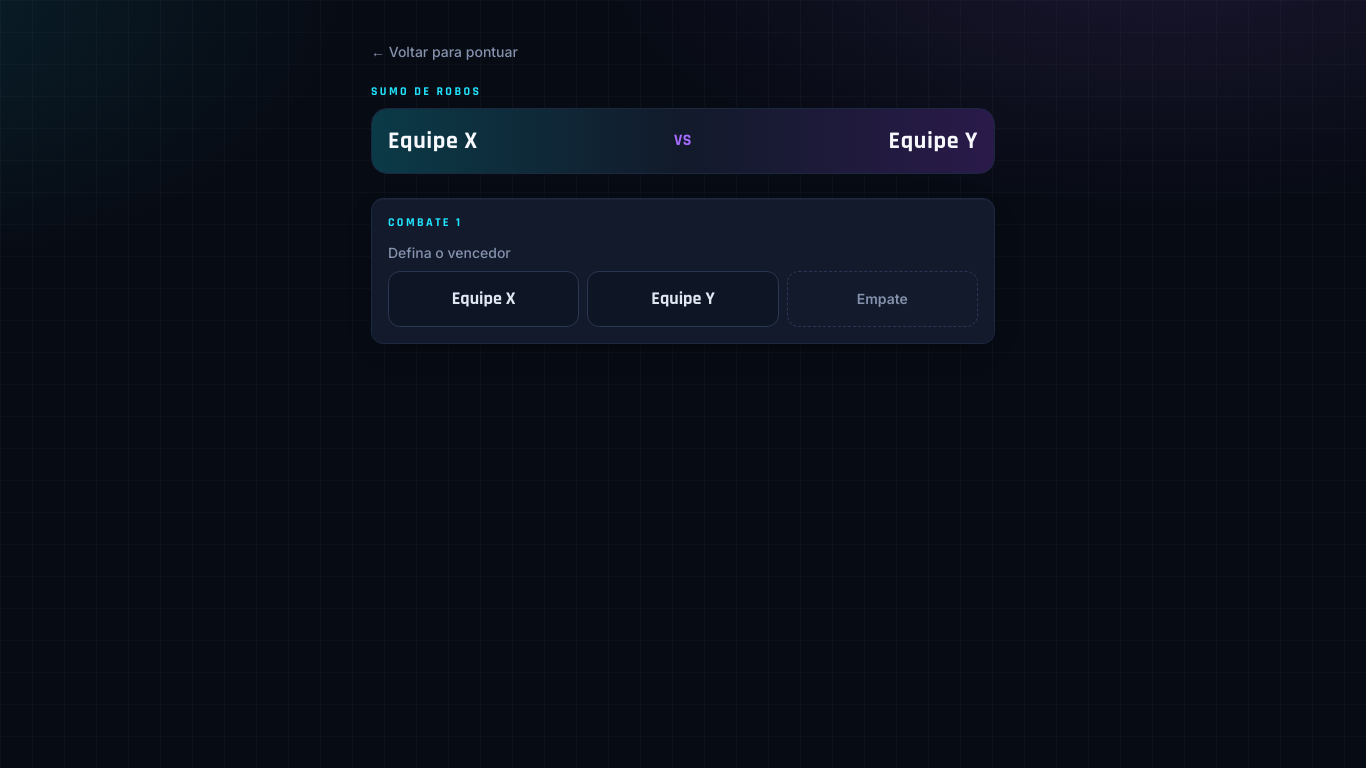
Test: PartidaScorerPage - retry apos falha parcial › depois da confirmacao do 2o lado falhar, um novo clique nao recria o lancamento ja confirmado nem o que ja ficou pendente
The image size is (1366, 768).
Click the button "Equipe X" at [484, 299], box [388, 271, 579, 327]
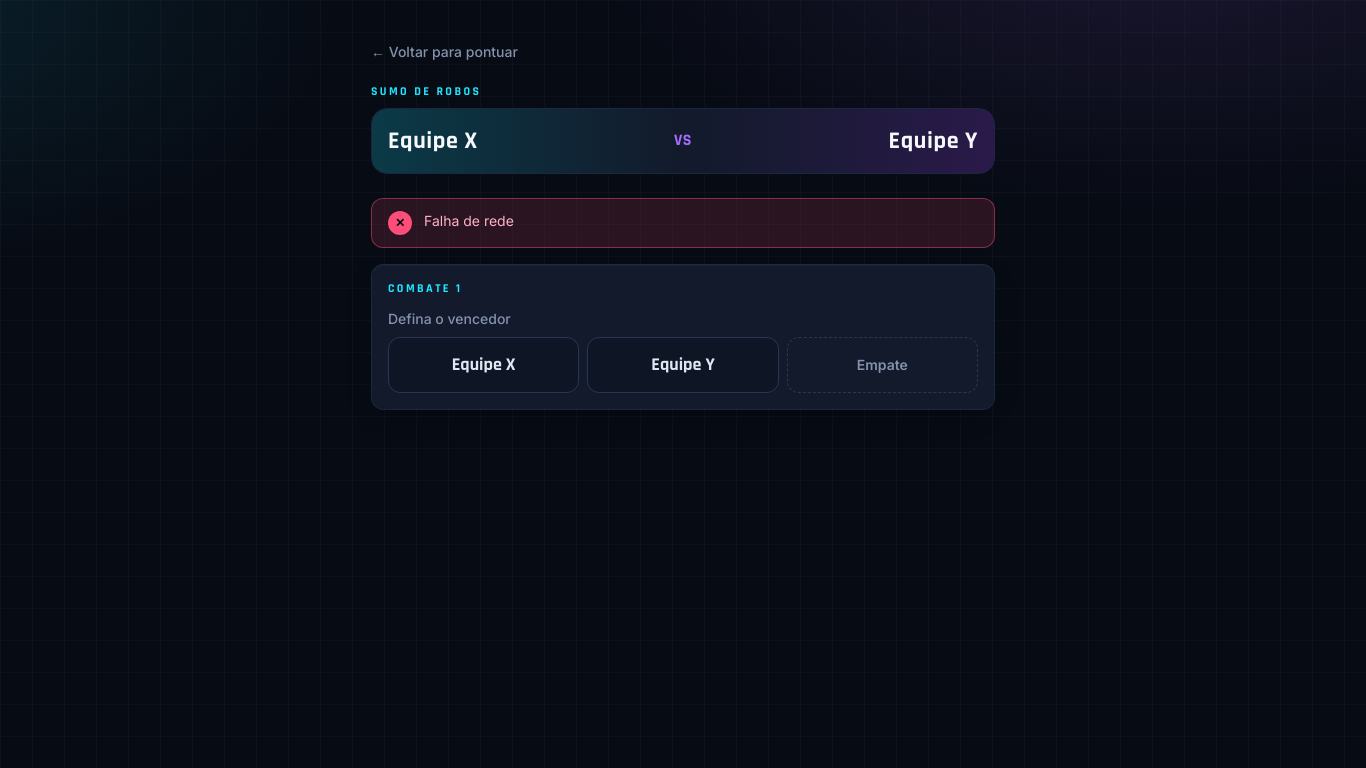
Now the text "Falha de rede" is shown, box [424, 212, 514, 229]
Click the button "Equipe X" at [484, 365], box [388, 337, 579, 393]
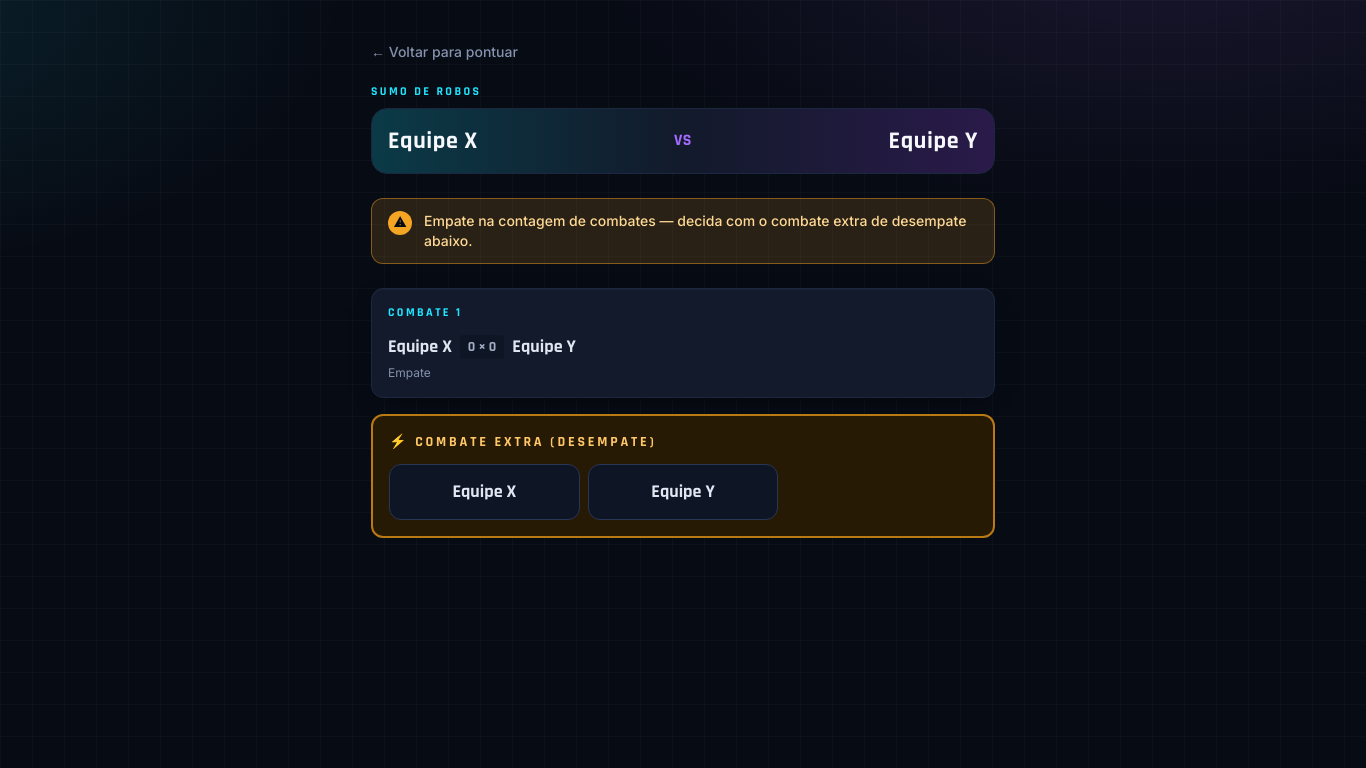
Now the text "Falha de rede" is gone
